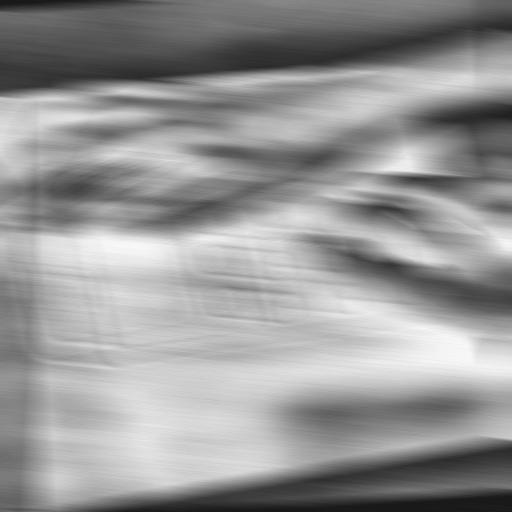bottom_left: (391, 58, 428, 72)
mobile: (0, 160, 478, 378)
